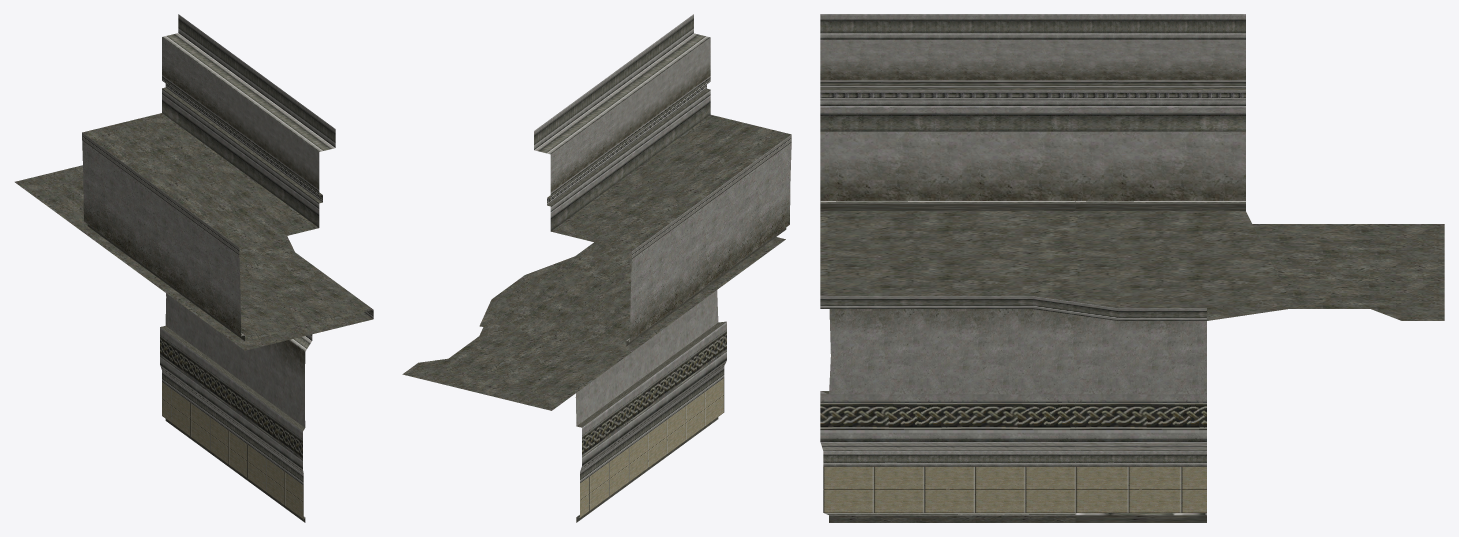
File: DWARF_PALACE_GEAR_ROOM_WALL04B.fbx
The picture shows the model from 3 angles, left to right: view 1: azimuth 30°, elevation 25°; view 2: azimuth 150°, elevation 25°; view 3: azimuth 270°, elevation 25°; orthographic projection. The views are drawn at different scales.
Parts seen in each view (by area): view 1: DWARF_PALACE_GEAR_ROOM_WALL04B; view 2: DWARF_PALACE_GEAR_ROOM_WALL04B; view 3: DWARF_PALACE_GEAR_ROOM_WALL04B.
Part boxes in pixels (left/top/right/bottom): DWARF_PALACE_GEAR_ROOM_WALL04B: left=15, top=14, right=373, bottom=522; DWARF_PALACE_GEAR_ROOM_WALL04B: left=402, top=14, right=791, bottom=522; DWARF_PALACE_GEAR_ROOM_WALL04B: left=820, top=14, right=1444, bottom=522.
Size of the model in its own units: 84001 by 205000 by 220001.
7 materials, 7 textured.
